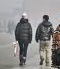person: (35, 13, 54, 67), (15, 13, 31, 67), (51, 23, 59, 69), (6, 19, 13, 35)
